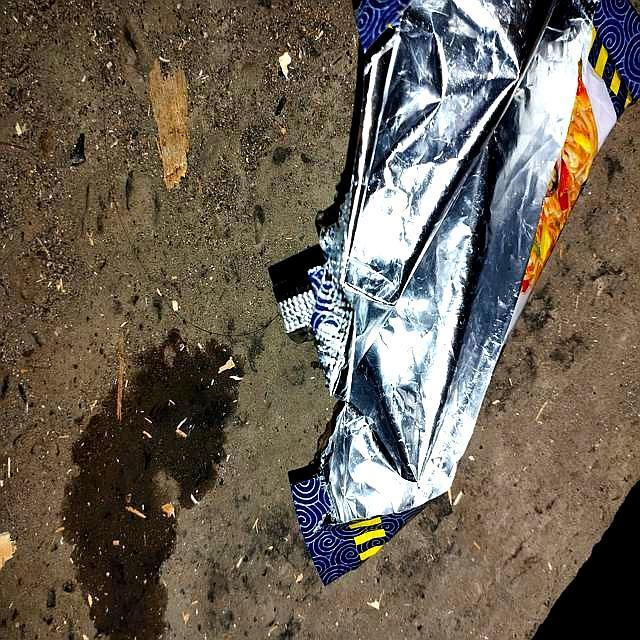Non-biodegradable: (239, 3, 635, 640)
